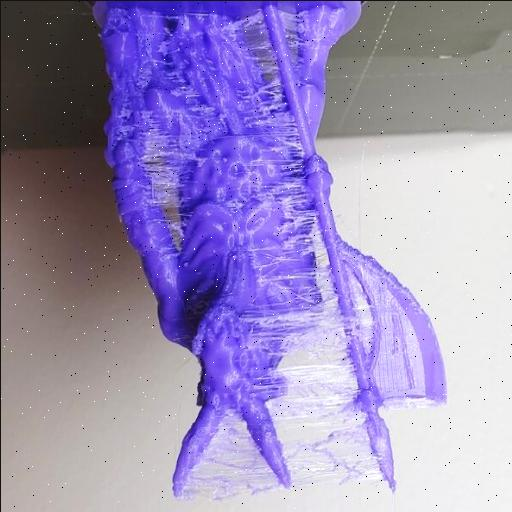stringing: (267, 219, 382, 491), (234, 8, 301, 154), (139, 111, 203, 245), (181, 417, 283, 492), (267, 172, 315, 253), (257, 312, 318, 355), (346, 268, 372, 352), (278, 10, 300, 77)
